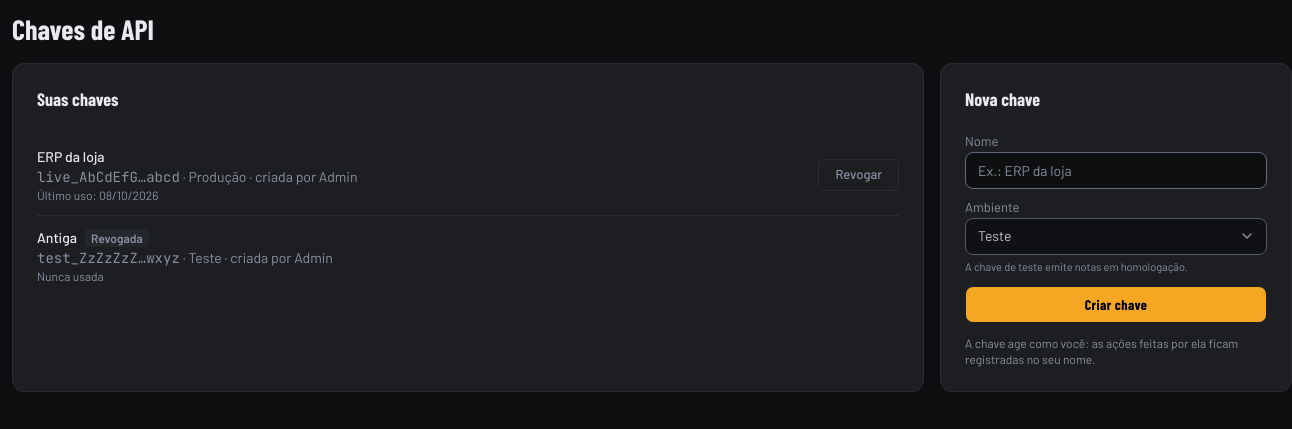
Test: chaves de API › o nome da chave é obrigatório
The image size is (1292, 429).
Click the button "Criar chave": point(1116, 305) [965,286,1267,323]
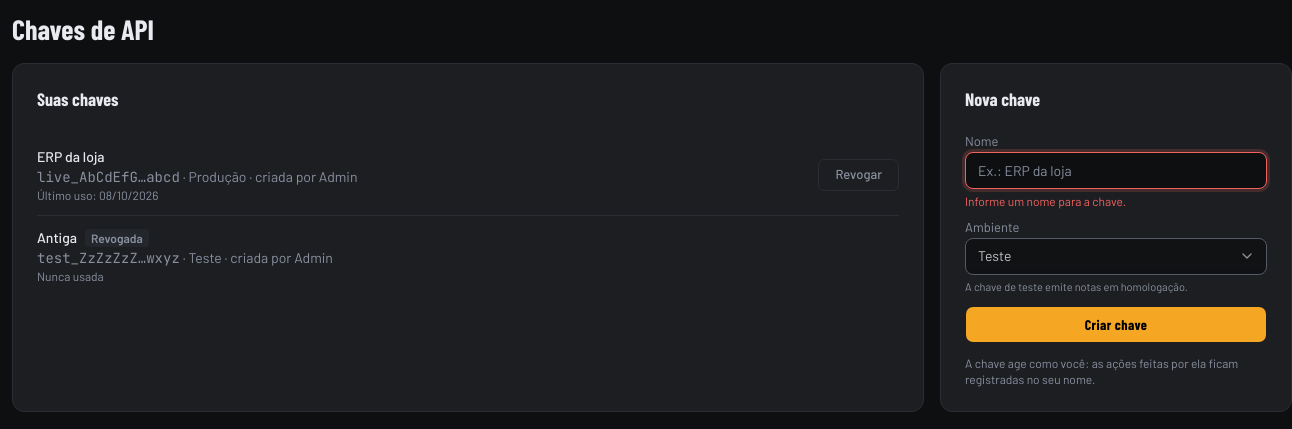
Expected: the text "Informe um nome para a chave." is shown, [965,194,1126,208]
